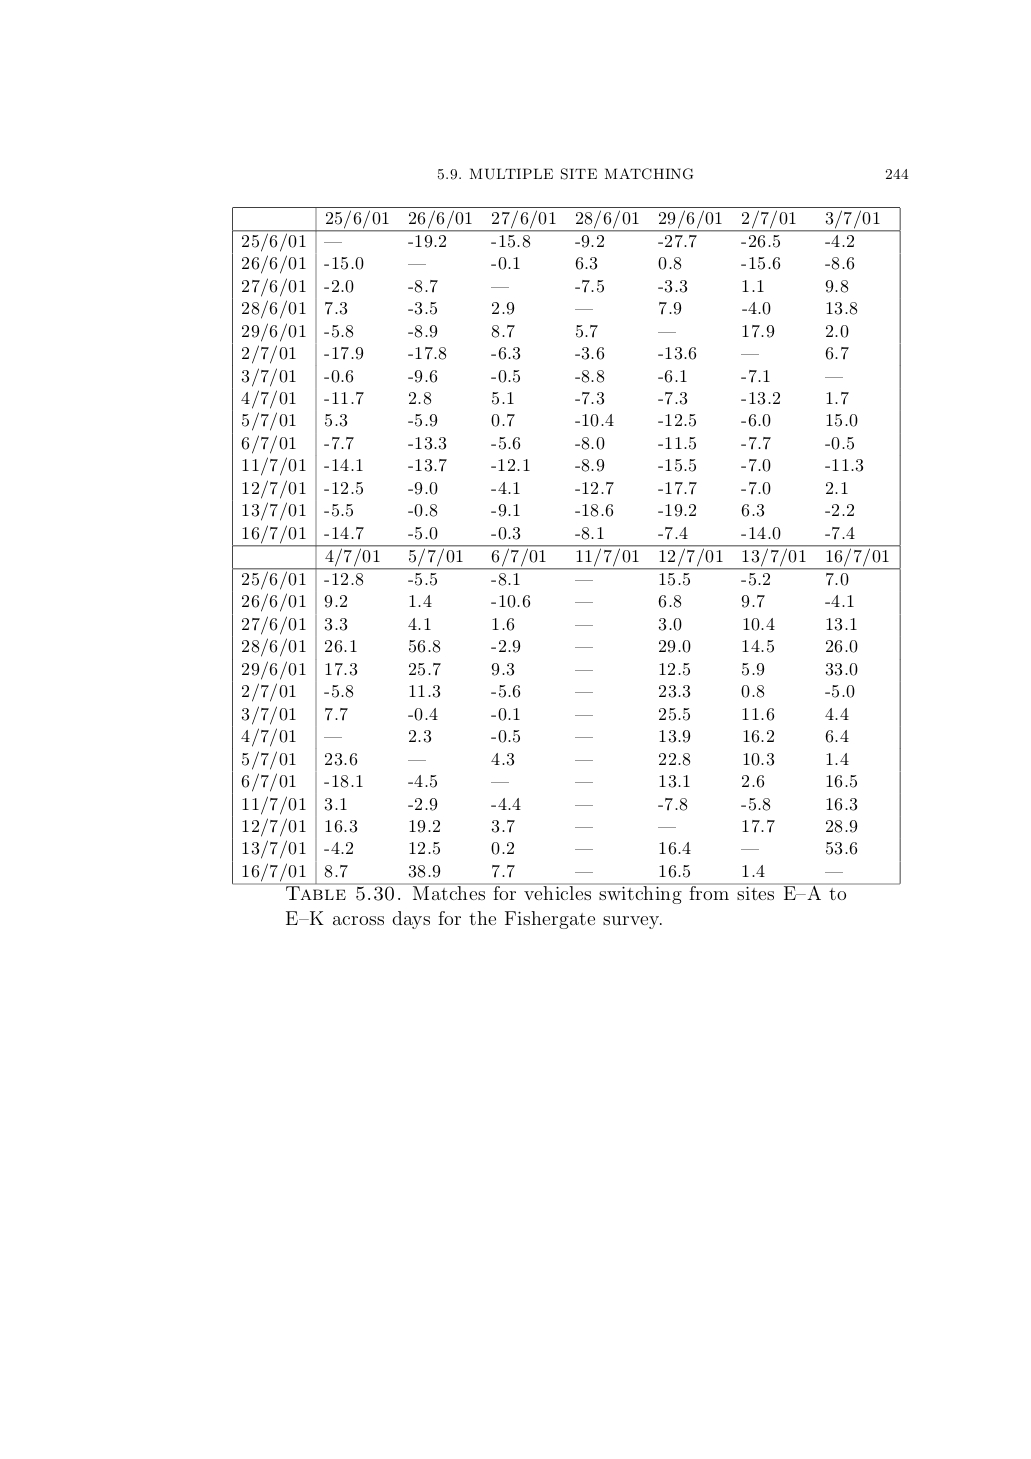Table: (232, 205, 900, 904)
